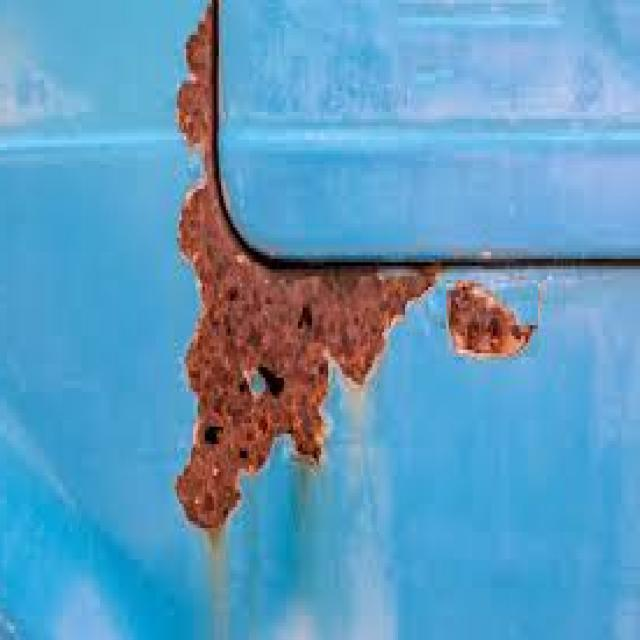Corrosion: (171, 0, 536, 536)
